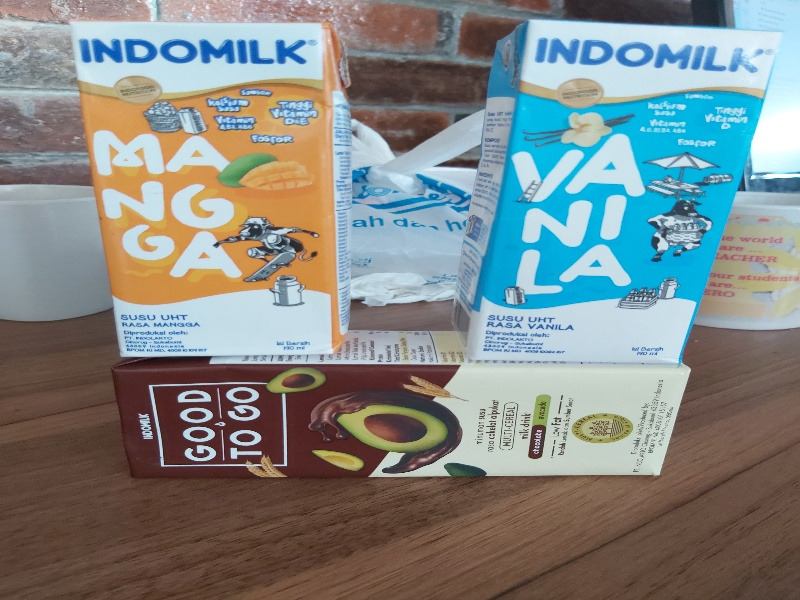cokelat: (101, 327, 696, 481)
mangga: (64, 18, 362, 358)
vanilla: (449, 16, 781, 364)
